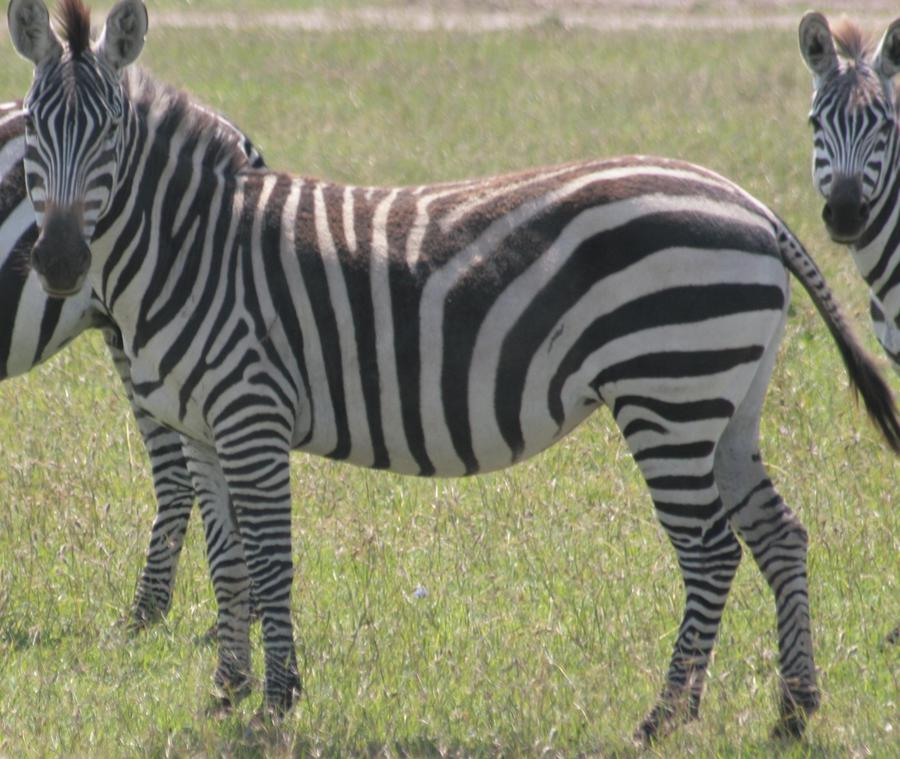zebra_plains: (167, 153, 776, 458)
